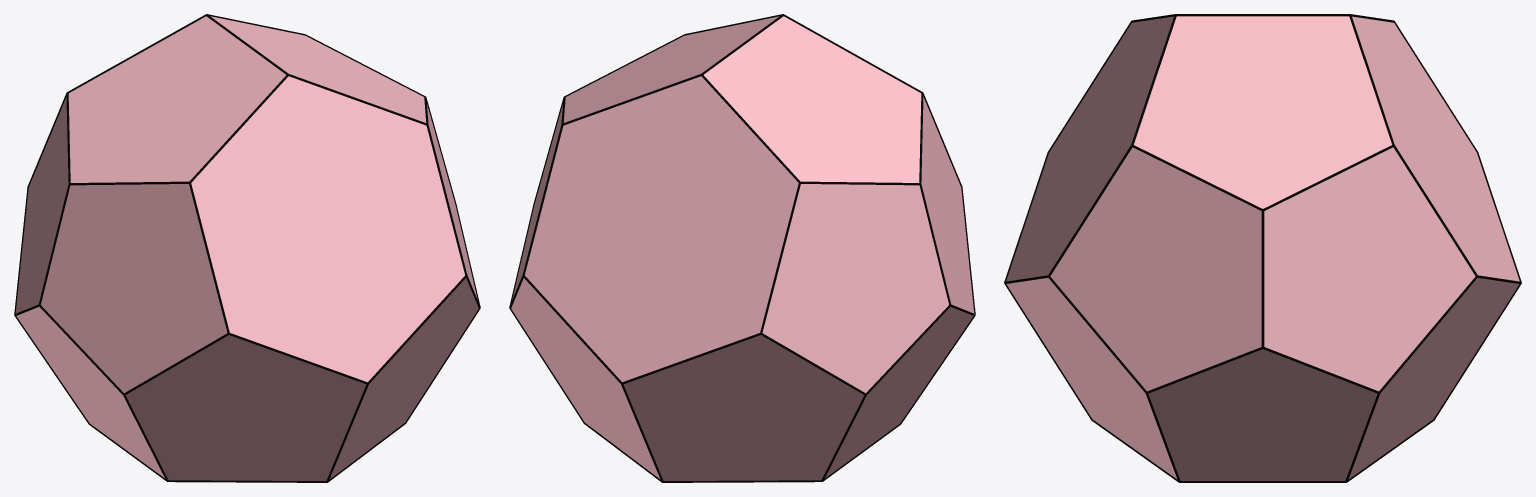
3 views of the same model, side by side, from view 1: azimuth 30°, elevation 25°; view 2: azimuth 150°, elevation 25°; view 3: azimuth 270°, elevation 25° (orthographic). The views are drawn at different scales.
Visible parts, largest first — view 1: visgeom_0, geometry_edges0_0_C26-D3h.off; view 2: visgeom_0, geometry_edges0_0_C26-D3h.off; view 3: visgeom_0, geometry_edges0_0_C26-D3h.off.
Part boxes in pixels (box(x1,y1,x2,y2)): visgeom_0: box(15, 16, 478, 480); geometry_edges0_0_C26-D3h.off: box(14, 14, 480, 482); visgeom_0: box(511, 16, 974, 480); geometry_edges0_0_C26-D3h.off: box(509, 14, 975, 482); visgeom_0: box(1006, 16, 1519, 480); geometry_edges0_0_C26-D3h.off: box(1004, 14, 1521, 482).
Size of the model in its own units: 2.08 by 2.09 by 1.82.
